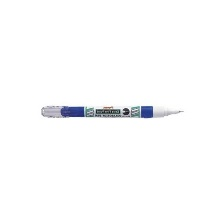correction_fluid: (38, 103, 188, 121)
